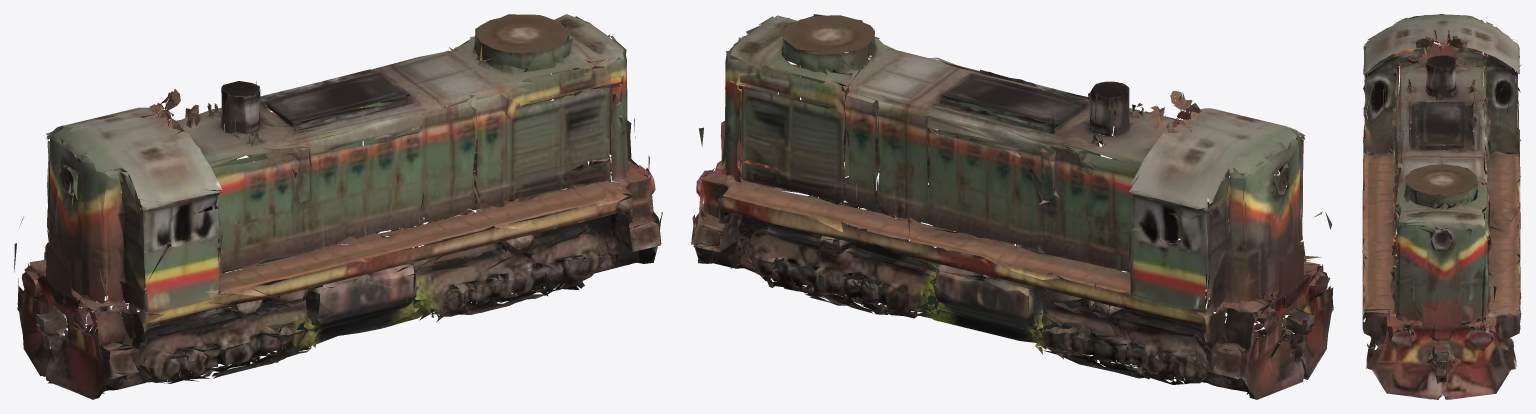
File: prop_locomotive.glb
The picture shows the model from 3 angles, left to right: view 1: azimuth 30°, elevation 25°; view 2: azimuth 150°, elevation 25°; view 3: azimuth 270°, elevation 25°; orthographic projection. The views are drawn at different scales.
Visible parts, largest first — view 1: prop_locomotive; view 2: prop_locomotive; view 3: prop_locomotive.
Boxes of the visible parts, bbox=[...] form: prop_locomotive: bbox=[14, 14, 662, 399]; prop_locomotive: bbox=[691, 14, 1333, 399]; prop_locomotive: bbox=[1362, 14, 1521, 399].
Size of the model in its own units: 17 by 6.87 by 5.03.
Materials: 1 (1 with a texture image).
